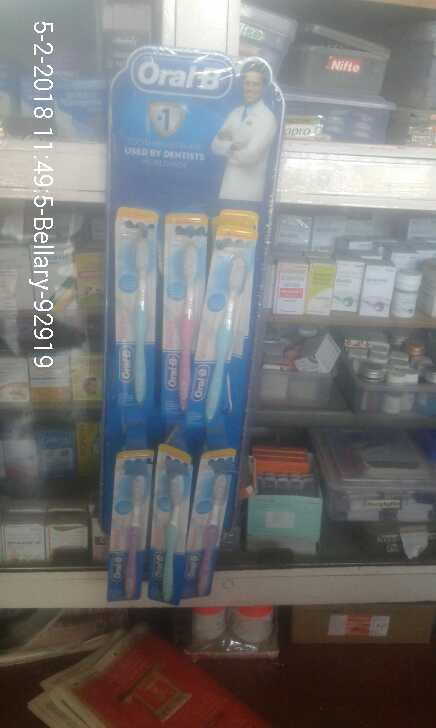oralb: (115, 209, 247, 425), (109, 448, 236, 609)
